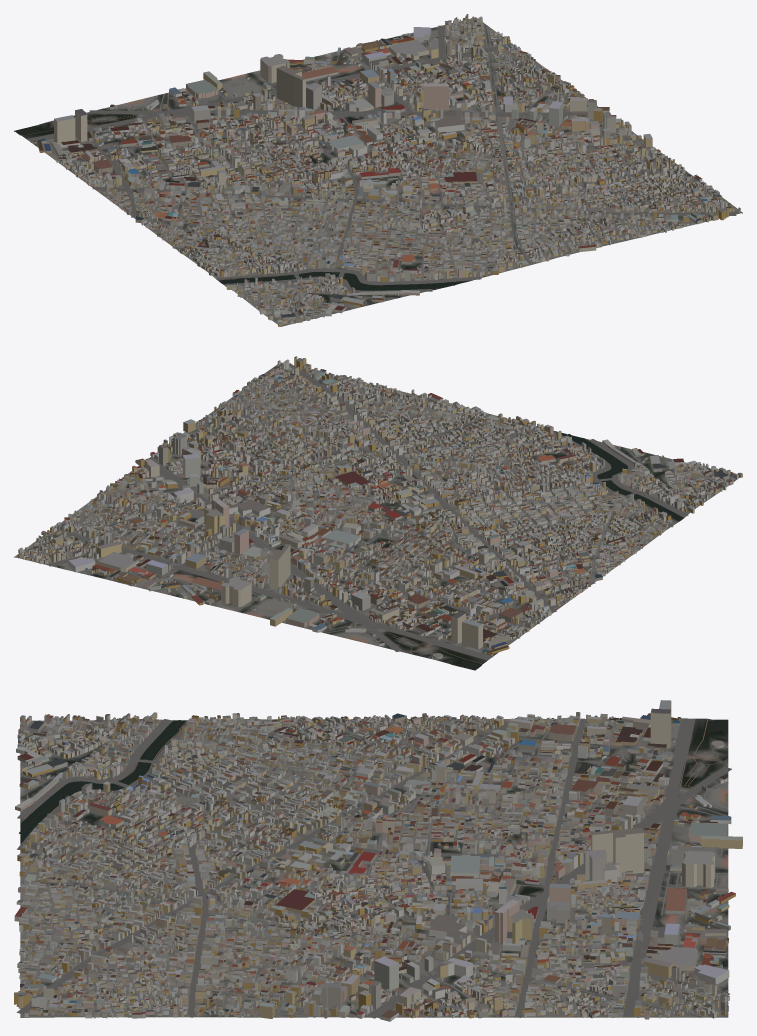
The picture shows the model from 3 angles, top to bottom: view 1: azimuth 30°, elevation 25°; view 2: azimuth 150°, elevation 25°; view 3: azimuth 270°, elevation 25°; orthographic projection. The views are drawn at different scales.
Parts seen in each view (by area): view 1: buildings, ground, roads, water; view 2: buildings, ground, roads, water; view 3: buildings, ground, roads, water.
Boxes of the visible parts, <box> form: buildings: <box>33,14,740,326</box>; ground: <box>14,17,742,326</box>; roads: <box>22,18,740,324</box>; water: <box>15,125,469,290</box>; buildings: <box>18,356,742,658</box>; ground: <box>14,362,739,670</box>; roads: <box>18,362,736,664</box>; water: <box>453,431,683,669</box>; buildings: <box>14,700,742,1021</box>; ground: <box>20,718,728,1017</box>; roads: <box>16,718,731,1018</box>; water: <box>19,719,727,843</box>.
Bounding box in the file's own units: 1430 × 95.81 × 1442.
